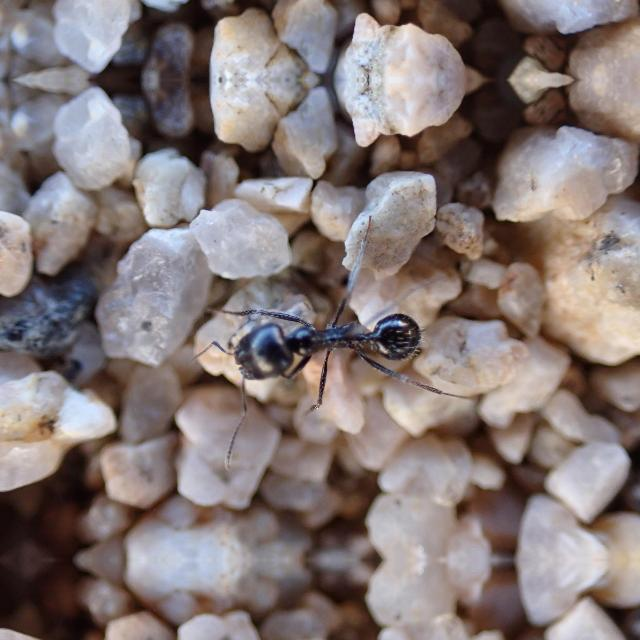Messor: (226, 286, 424, 402)
